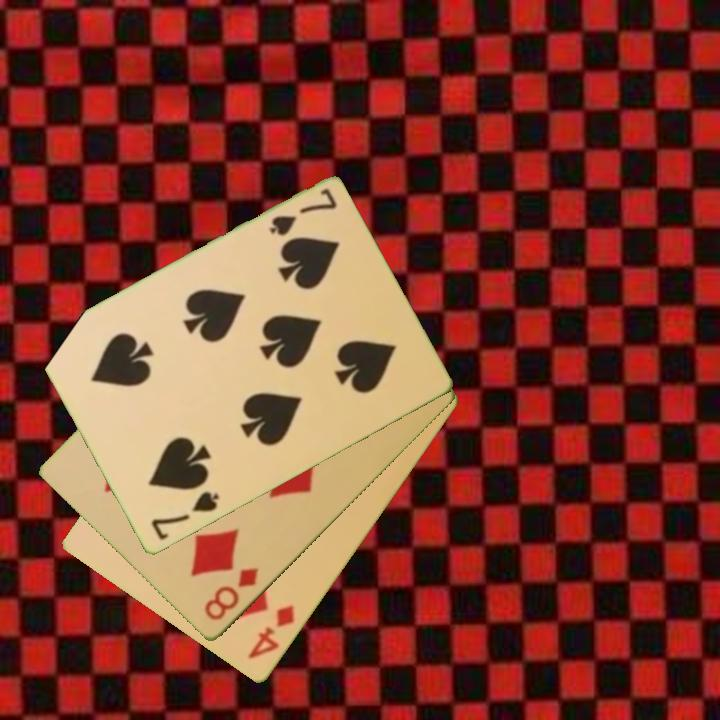4d: (244, 601, 298, 663)
7s: (147, 488, 222, 544), (265, 185, 340, 240)
8d: (200, 564, 262, 624)
